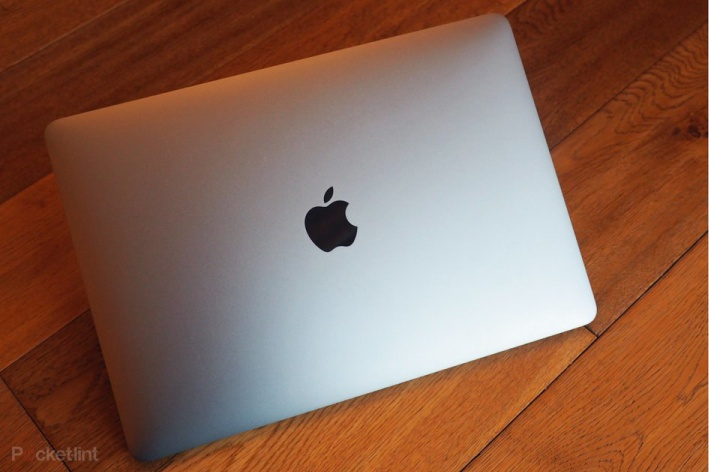apple: (302, 170, 370, 274)
